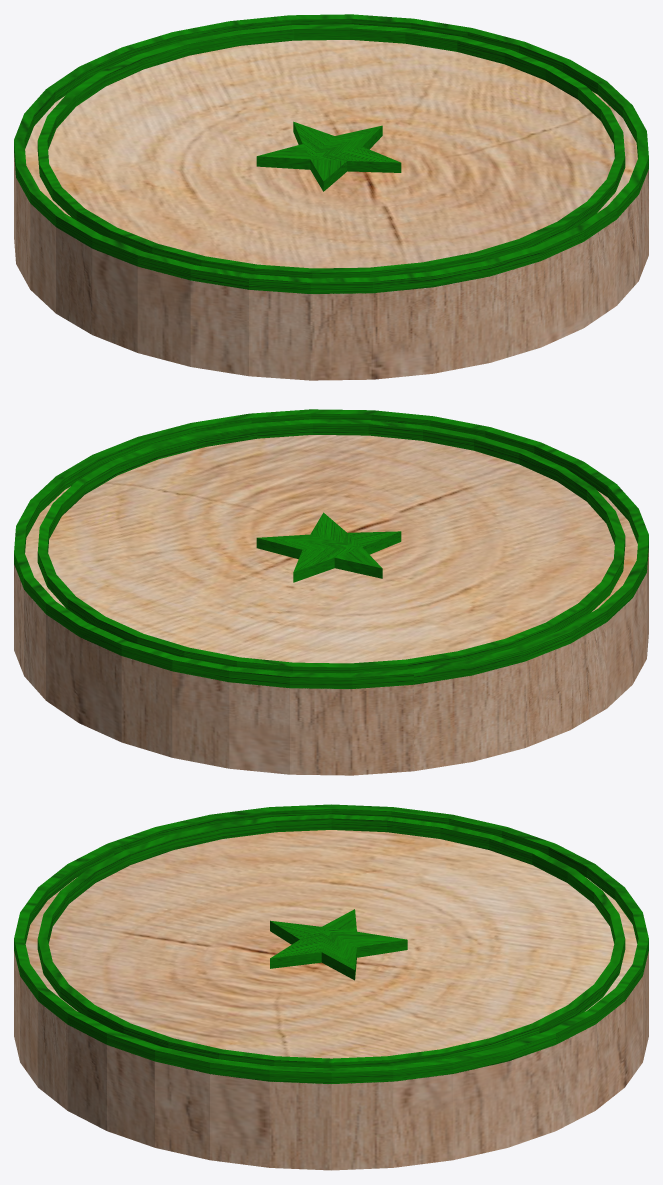
Rendered from Sternestein1.fbx.
3 views of the same model, one above another, from view 1: azimuth 30°, elevation 25°; view 2: azimuth 150°, elevation 25°; view 3: azimuth 270°, elevation 25° (orthographic).
Visible parts, largest first — view 1: Stern1; view 2: Stern1; view 3: Stern1.
Boxes of the visible parts, box(x1,y1,x2,y2) form: Stern1: box(14, 14, 648, 380); Stern1: box(14, 409, 648, 775); Stern1: box(14, 804, 648, 1170).
Size of the model in its own units: 200 by 34 by 200.
